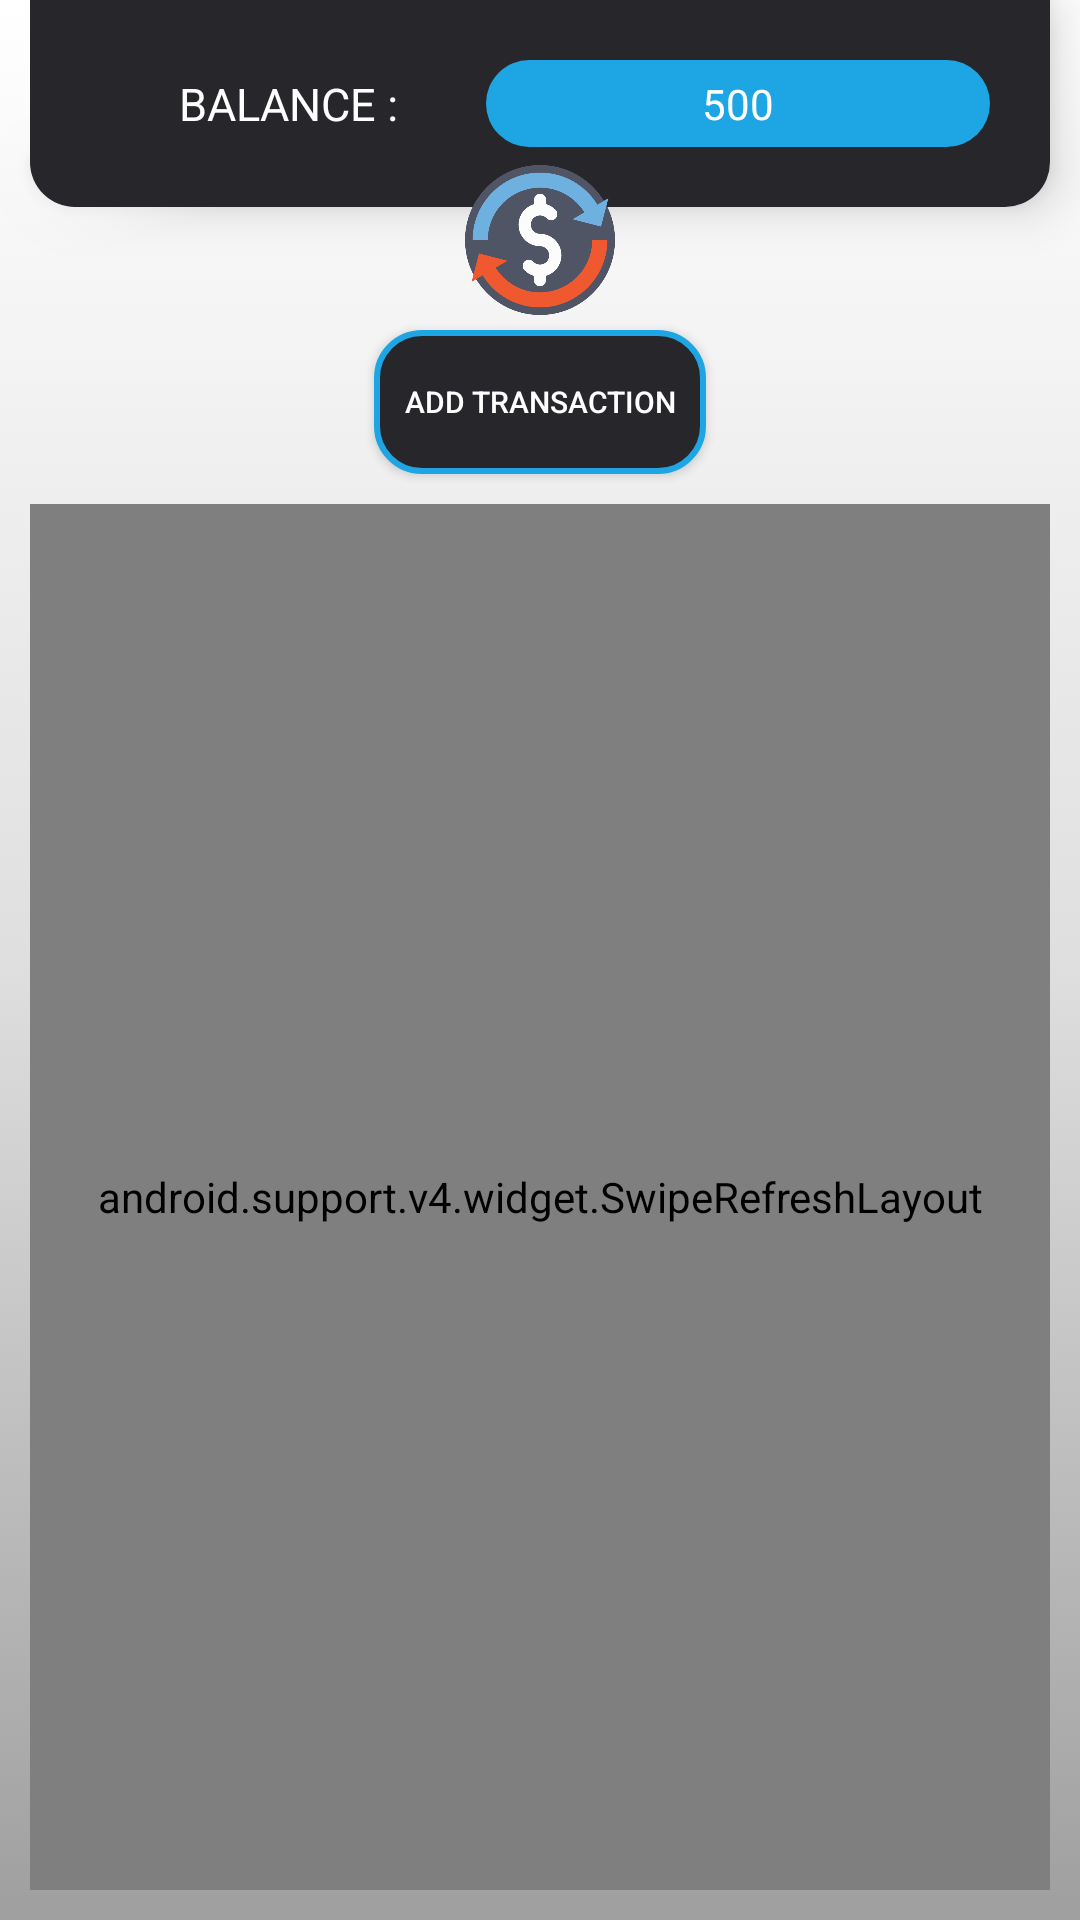

Icon click points for this 1080px x 1920px phone screenshot, format point (x, y):
exchange: point (540, 240)
